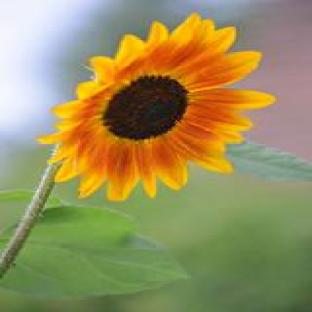sunflower: (35, 13, 277, 203)
